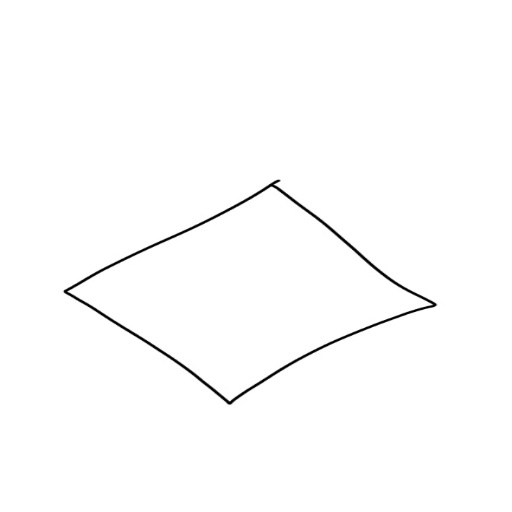square: (60, 172, 438, 406)
